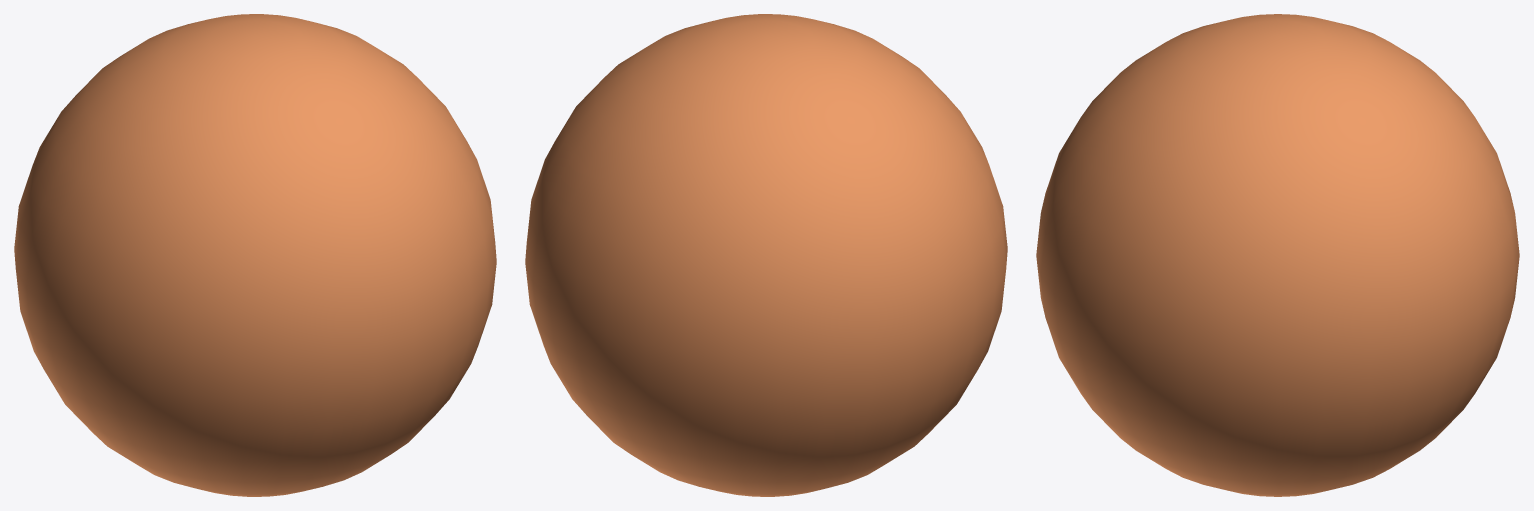
Rendered from cafe.glb.
The picture shows the model from 3 angles, left to right: view 1: azimuth 30°, elevation 25°; view 2: azimuth 150°, elevation 25°; view 3: azimuth 270°, elevation 25°; orthographic projection.
Visible parts, largest first — view 1: Sphere; view 2: Sphere; view 3: Sphere.
Boxes of the visible parts, x1,y1,x2,y2 form: Sphere: (14,14,496,496); Sphere: (525,14,1007,496); Sphere: (1036,14,1519,496).
Bounding box in the file's own units: 102 × 102 × 102.
